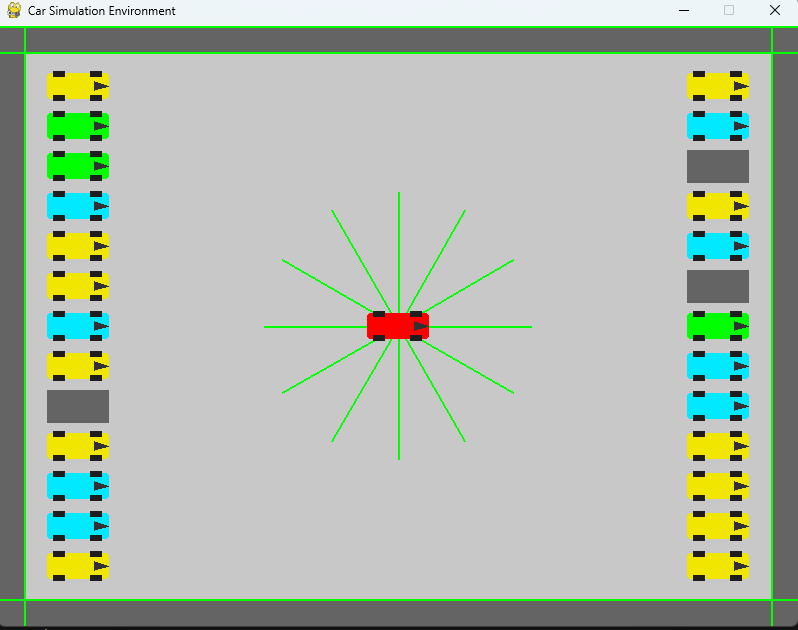ControlledCar: (358, 302, 437, 347)
ParkedCar: (41, 550, 120, 590), (682, 66, 755, 109), (40, 62, 112, 105), (40, 109, 117, 146), (681, 185, 751, 225), (42, 508, 119, 544), (681, 108, 757, 144), (683, 387, 756, 424), (44, 269, 115, 307), (684, 428, 752, 467), (687, 306, 751, 347), (681, 350, 754, 385), (684, 229, 754, 265), (685, 472, 751, 509), (42, 231, 112, 265), (45, 308, 110, 344), (684, 511, 756, 543), (684, 548, 753, 581), (43, 428, 114, 460), (45, 149, 111, 182), (46, 191, 108, 226), (44, 350, 113, 380), (46, 472, 108, 505)
ParkingSpot: (44, 385, 112, 426), (681, 268, 751, 307), (681, 148, 749, 188)
